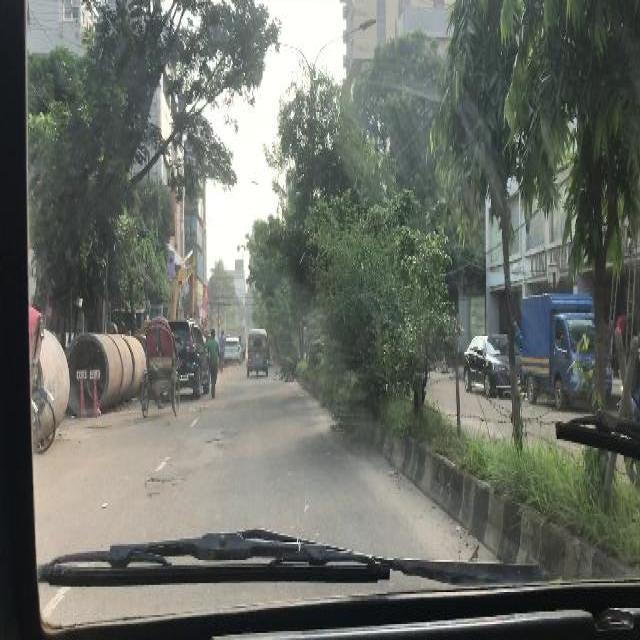car: (464, 332, 522, 393)
pickup: (520, 291, 612, 406)
rickshaw: (140, 318, 178, 414), (28, 309, 54, 448)
suv: (176, 320, 208, 398), (226, 338, 240, 362)
three wheelers -CNG-: (247, 329, 267, 375)
